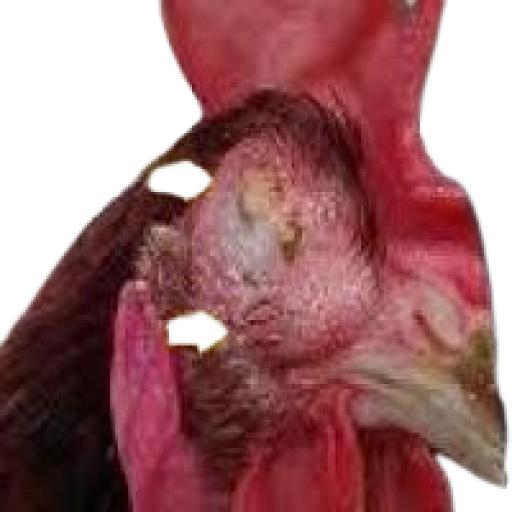disease: (222, 144, 325, 272), (451, 297, 512, 436), (146, 228, 196, 276)
